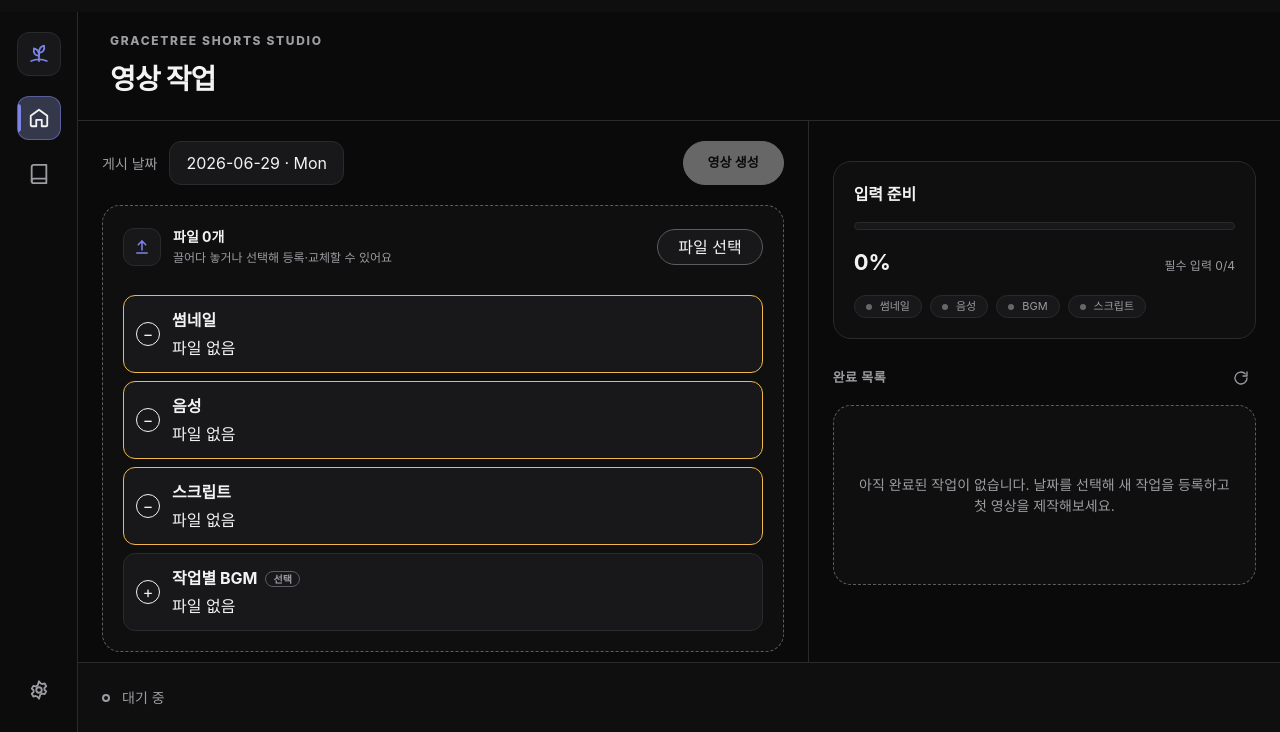
Test: App shell › provides named global entry points and switches the active view
The image size is (1280, 732).
Expected: the element named "입력" is shown, [78, 121, 809, 662]
Expected: the element "완료 목록" is shown, [809, 121, 1279, 662]
Click the button named "사용 가이드". click: (38, 174)
box: [16, 152, 60, 196]
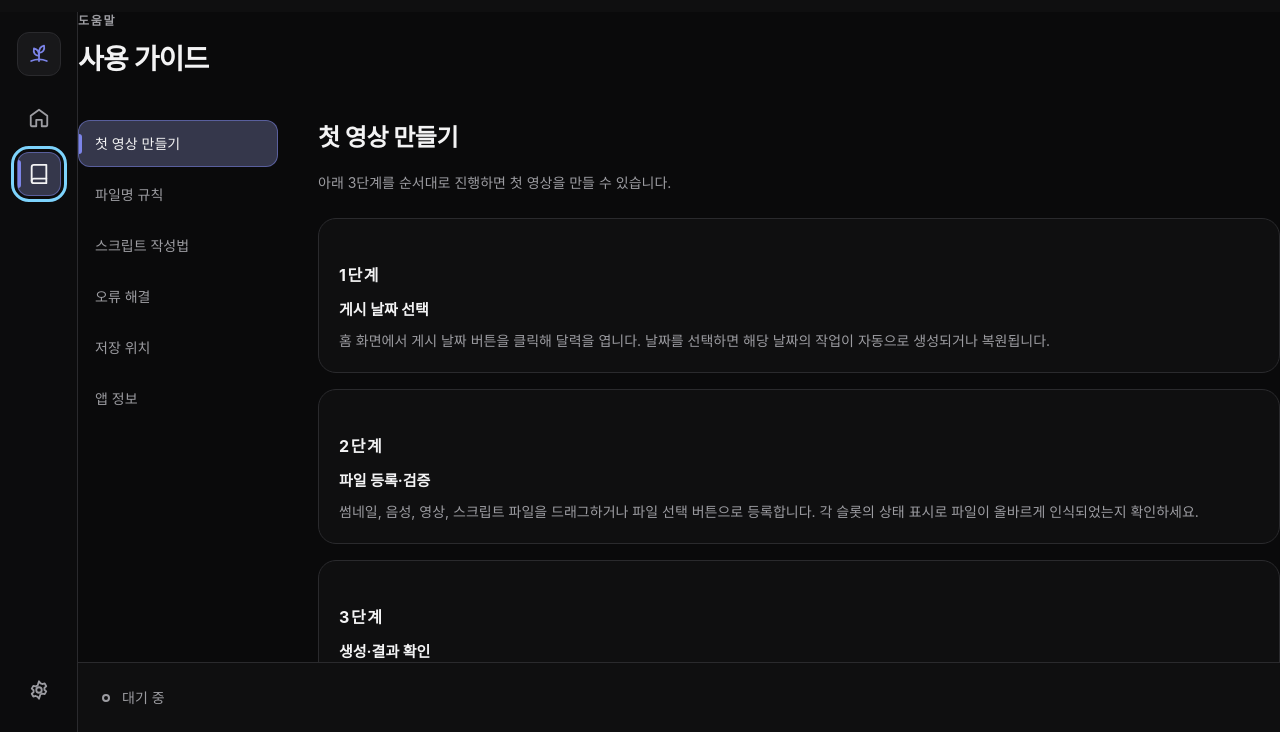
Now the heading "사용 가이드" is shown, box [78, 42, 208, 76]
